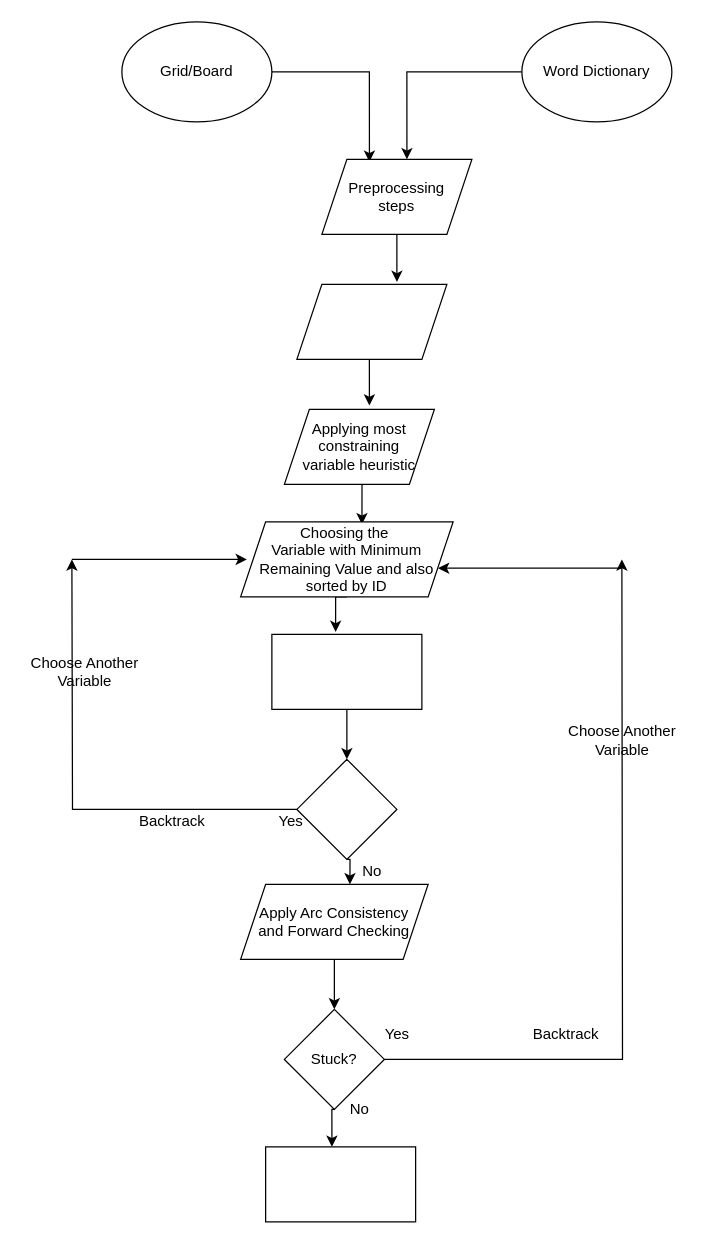
The diagram is 705 pixels wide and 1244 high, and some of its shapes have lost their labels. Here are the shapes that lost their labels. From the top down, the centre of each, then its label:
At pixel 371 321: "Connecting the neighbors".
At pixel 346 671: "Getting the list of values possible for assignment".
At pixel 346 808: "If empty list?".
At pixel 340 1184: "Print Solution".
